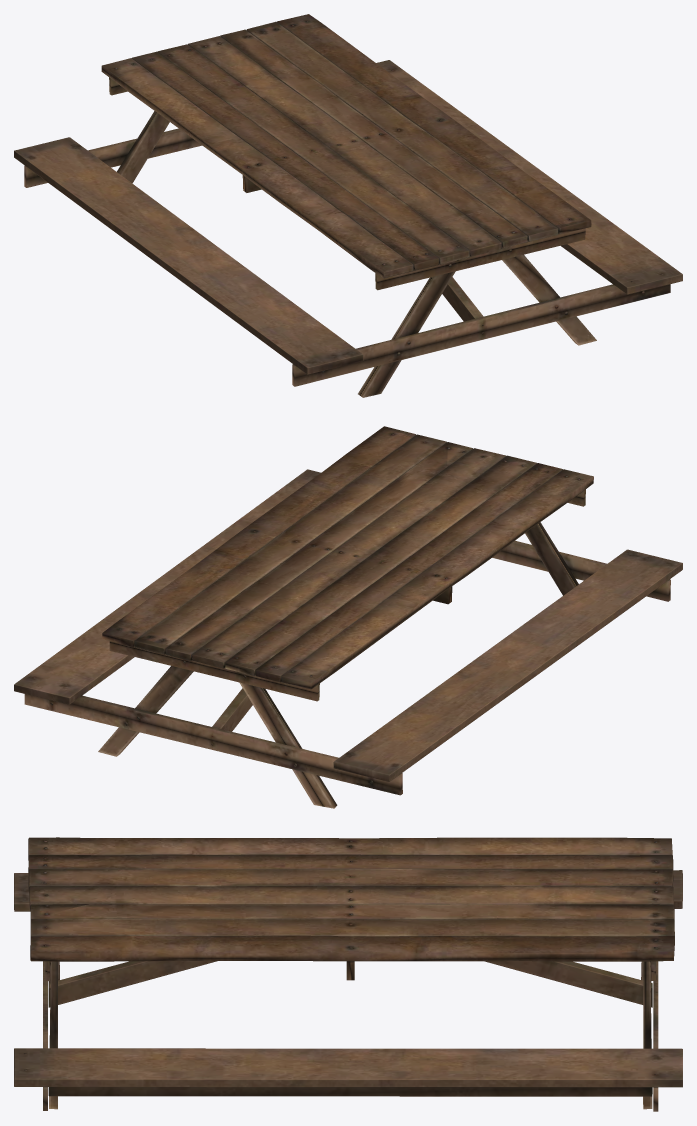
The model's file is picnic.glb.
The picture shows the model from 3 angles, top to bottom: view 1: azimuth 30°, elevation 25°; view 2: azimuth 150°, elevation 25°; view 3: azimuth 270°, elevation 25°; orthographic projection. The views are drawn at different scales.
Visible parts, largest first — view 1: wooden_picnic_table; view 2: wooden_picnic_table; view 3: wooden_picnic_table.
Boxes of the visible parts, bbox=[...] form: wooden_picnic_table: bbox=[14, 14, 682, 397]; wooden_picnic_table: bbox=[14, 426, 682, 808]; wooden_picnic_table: bbox=[14, 837, 682, 1111].
Size of the model in its own units: 2.24 by 0.7445 by 3.02.
Materials: 2 (2 with a texture image).
